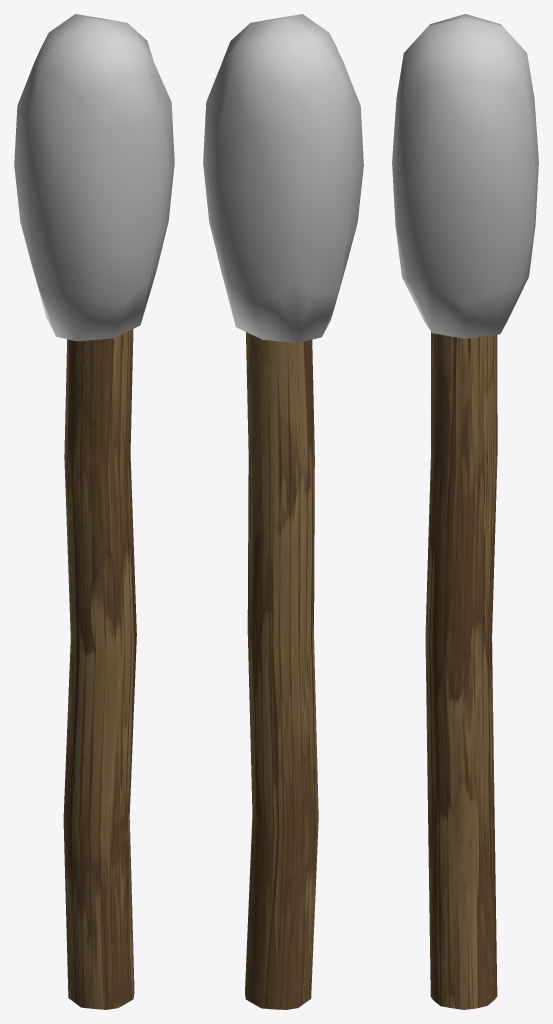
File: Torch.fbx
3 views of the same model, side by side, from view 1: azimuth 30°, elevation 25°; view 2: azimuth 150°, elevation 25°; view 3: azimuth 270°, elevation 25° (orthographic).
Parts seen in each view (by area): view 1: TorchModel; view 2: TorchModel; view 3: TorchModel.
Part boxes in pixels (<box>): TorchModel: <box>14,14,174,1009</box>; TorchModel: <box>203,14,363,1009</box>; TorchModel: <box>392,14,538,1009</box>.
Bounding box in the file's own units: 31.31 × 220 × 29.97.
